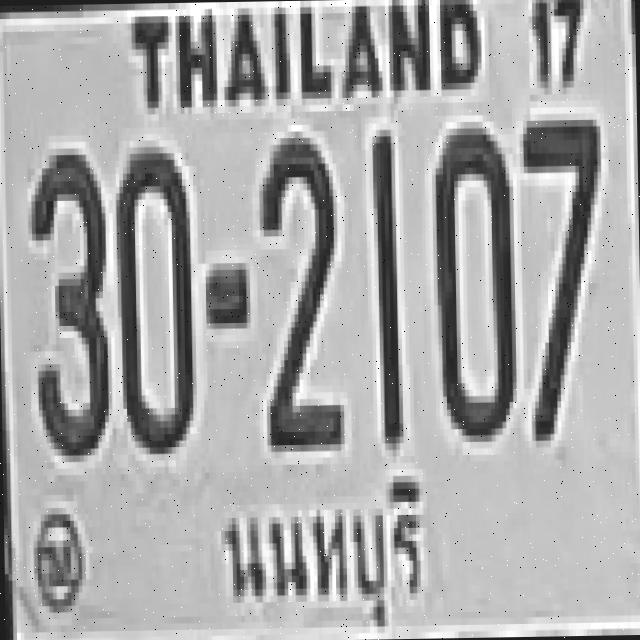0: (431, 121, 513, 436), (114, 140, 194, 448)
1: (370, 130, 401, 443)
2: (258, 130, 340, 446)
3: (27, 147, 108, 456)
7: (518, 110, 602, 438)
Nonthaburi: (213, 472, 439, 638)
